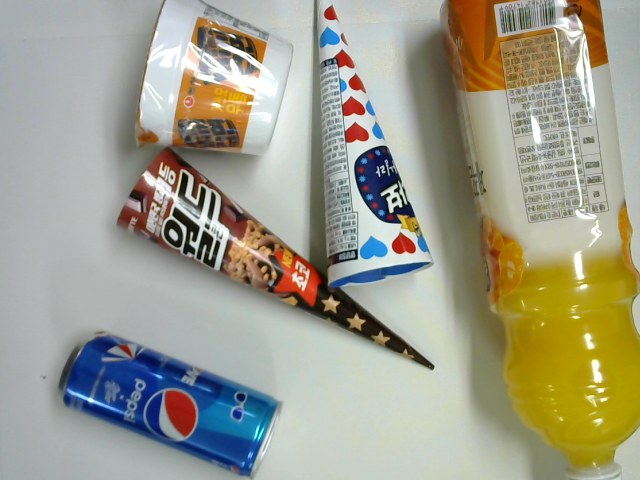Bravo_Cone_(Banila)_CVS: (313, 1, 436, 296)
Jeju_Tangerine_1.5L: (437, 1, 640, 480)
Pepsi_Cola_Can_250ml: (60, 325, 285, 477)
Udongmini: (134, 1, 295, 160)
World_Cone_Choco: (112, 147, 439, 373)
